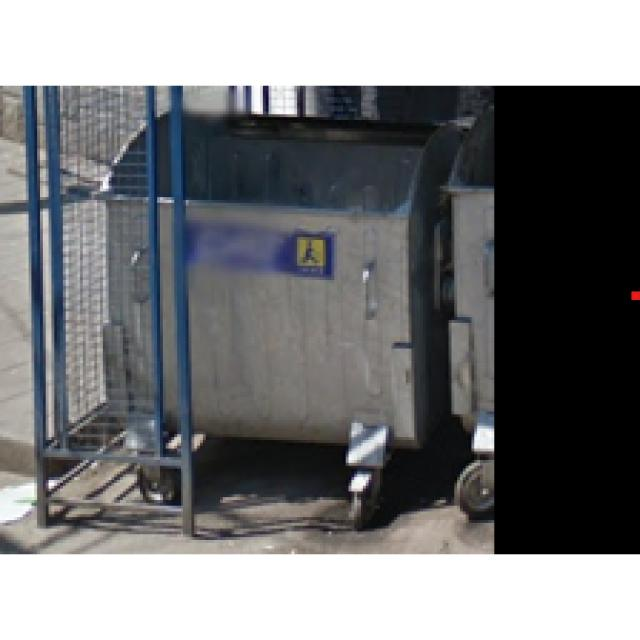general wastetrash bin: (83, 94, 444, 517)
